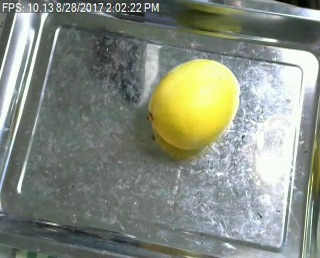Mango: (145, 59, 241, 150)
